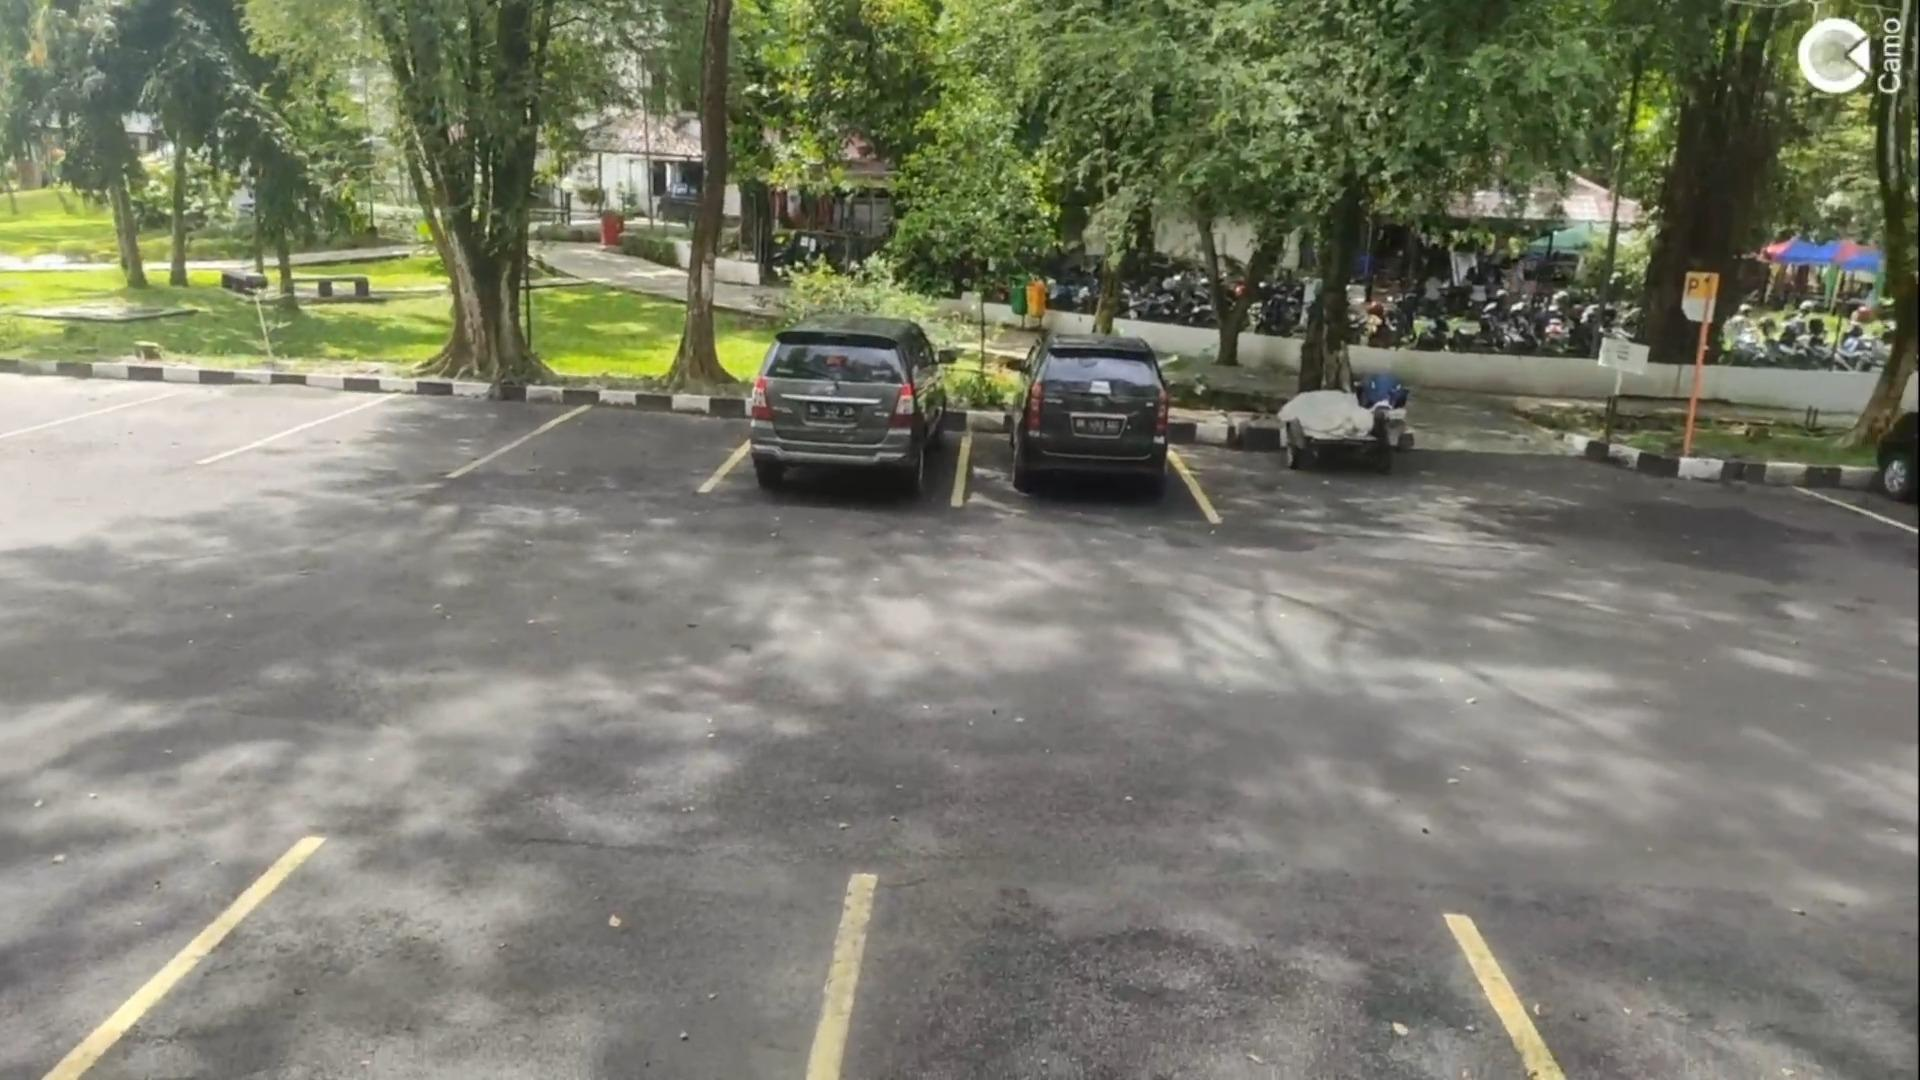empty: (93, 828, 872, 1078), (833, 861, 1570, 1080), (504, 379, 735, 495), (272, 373, 506, 481)
occupied: (958, 346, 1192, 512), (731, 354, 963, 505)
